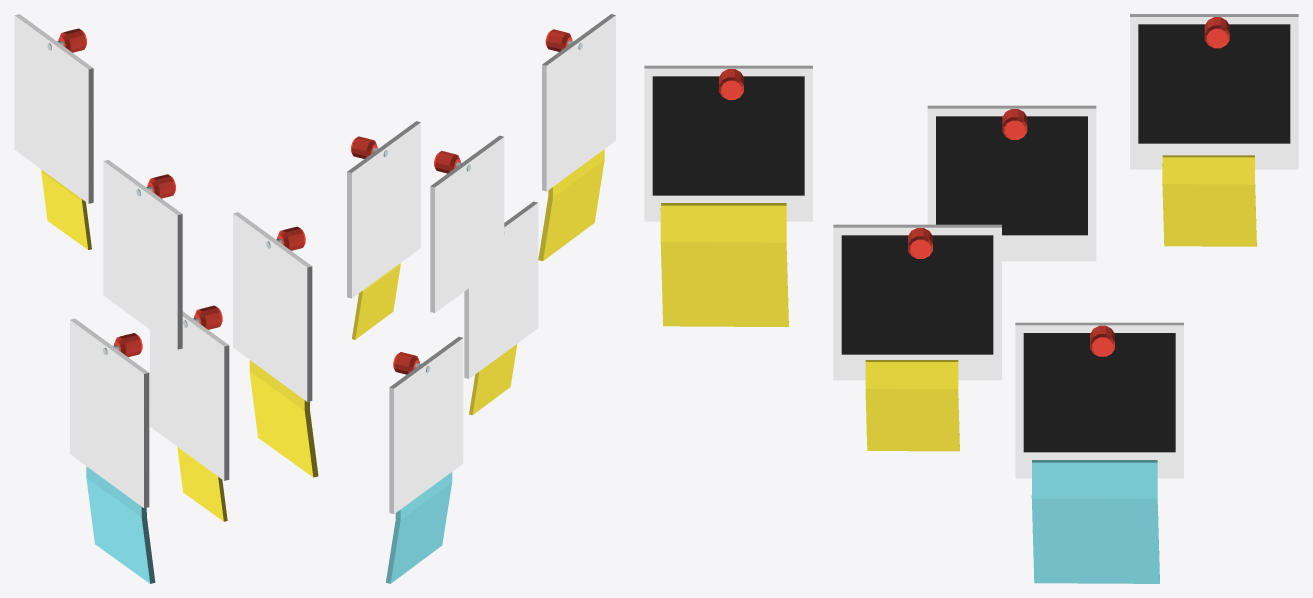
File: polaroids.glb
3 renders of one model, left to right at view 1: azimuth 30°, elevation 25°; view 2: azimuth 150°, elevation 25°; view 3: azimuth 270°, elevation 25°, orthographic. The views are drawn at different scales.
Parts seen in each view (by area): view 1: Node; view 2: Node; view 3: Node.
Part boxes in pixels (x1,y1,x2,y2): Node: (14,14,318,583); Node: (347,14,615,583); Node: (644,14,1298,583).
Bounding box in the file's own units: 0.0748 × 0.9183 × 0.97.
